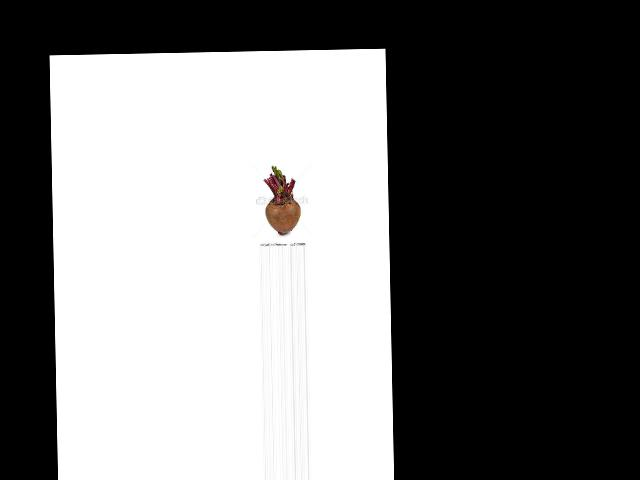beet: (263, 165, 301, 235)
